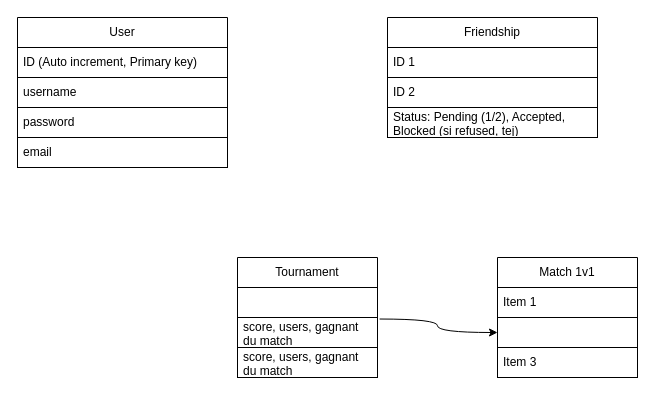
This 655x395 diagram has some shape labels left out. Here are the shapes that lost their labels. From the top down, the centre of each, then its label:
the point at 307,302: ID
the point at 567,332: Item 2
